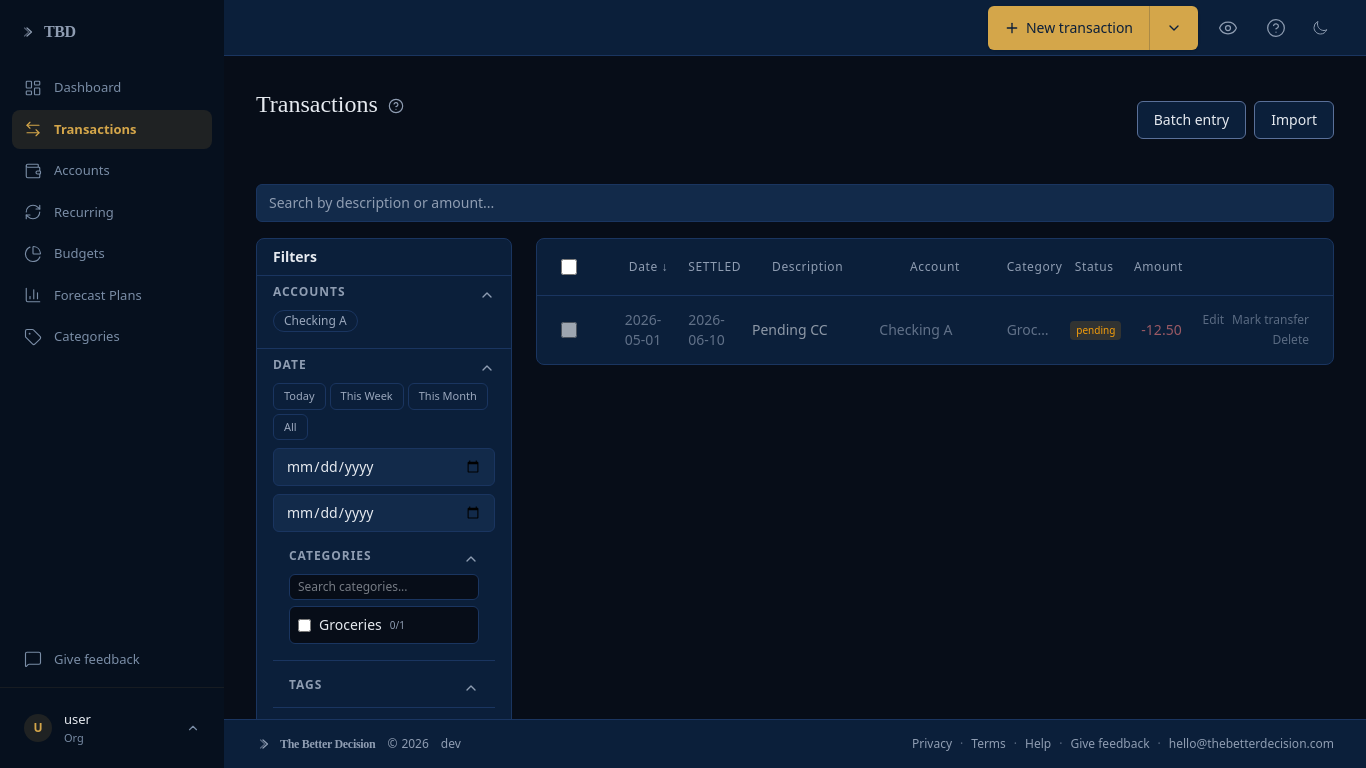
Test: TransactionsPage - settled_date (Punch-list Item 13) › edit form: settled date pre-fills from server when pending row already has one
The image size is (1366, 768).
Click the button with aria-label "Edit:" at (1213, 320), box left=1203, top=312, right=1224, bottom=328
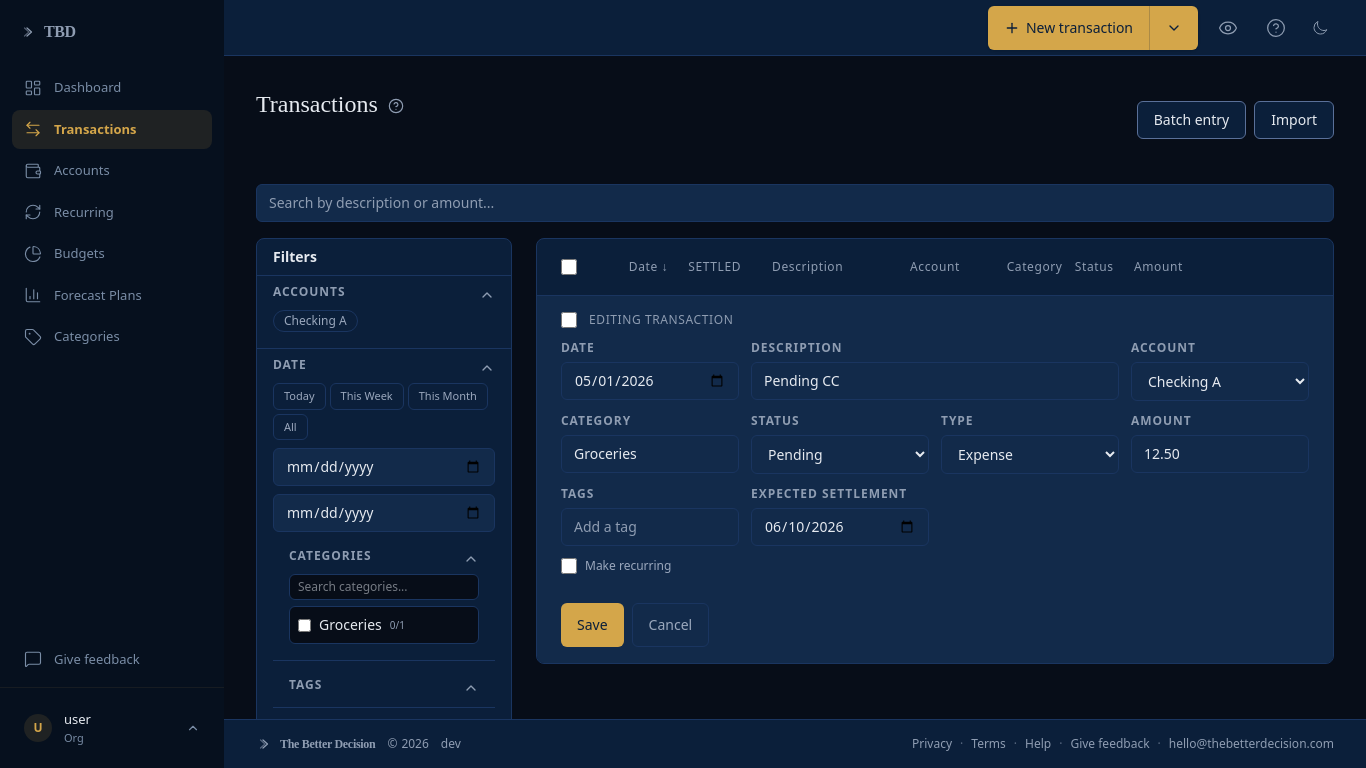
Expected: the date field labelled "Expected settlement" holds "2026-06-10", left=751, top=508, right=929, bottom=546
